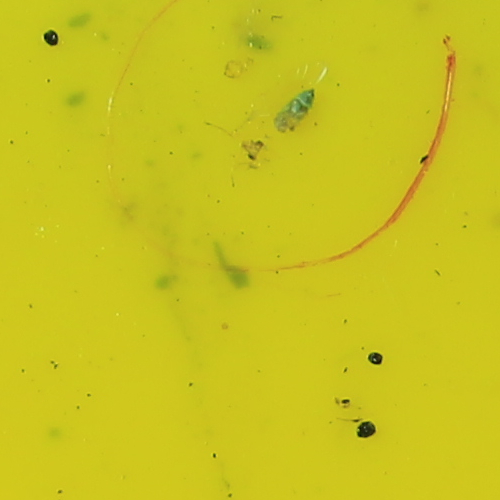Glycaspis: (273, 85, 319, 131)
